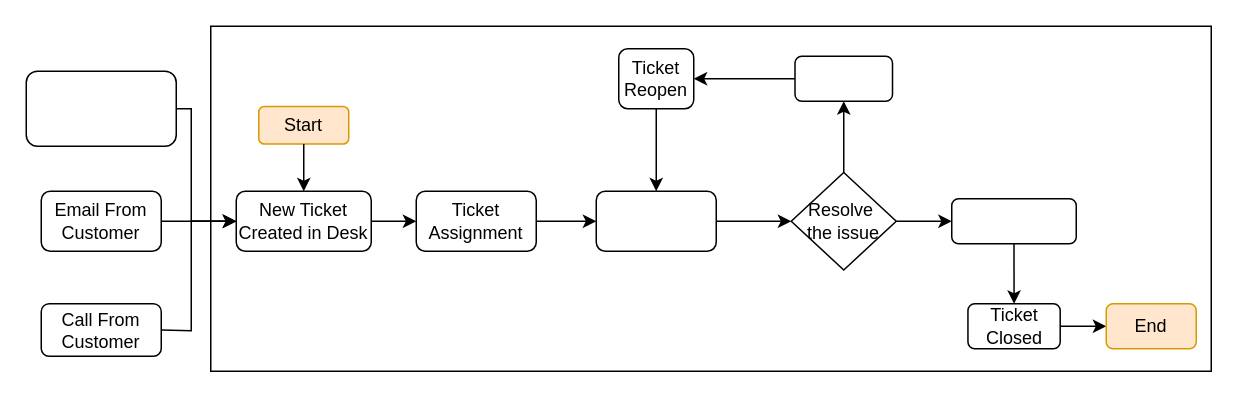
The diagram is 1238 pixels wide and 398 high, and some of its shapes have lost their labels. The centre of each missing label's shape, as x and y in pixels:
"Directly register complaint in IRDA portal" goes at [100,108].
"GM Checks customer details" goes at [655,220].
"Not Satisfied" goes at [843,78].
"Satisfied" goes at [1013,220].
